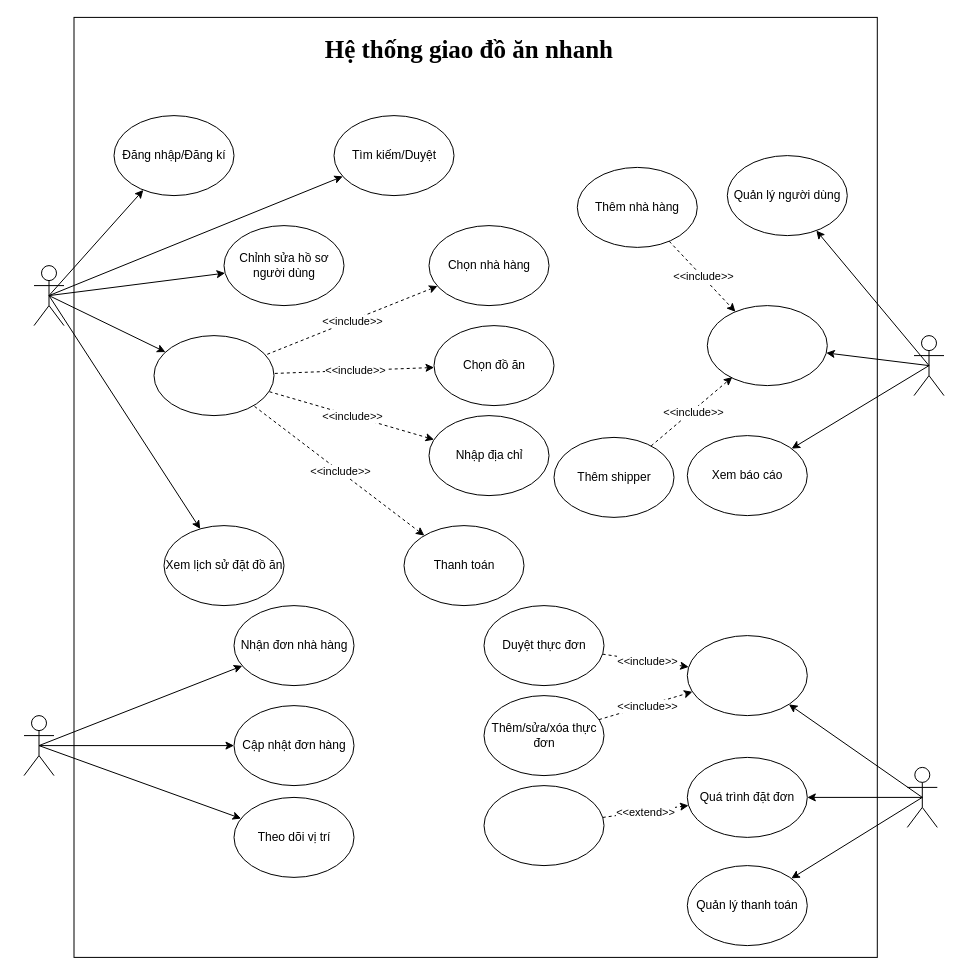
This 980x975 diagram has some shape labels left out. The box of each missing label's shape, as (x1, y1, x2, y2) in pixels:
Khách hàng: (33, 265, 64, 326)
Nhà hàng: (906, 766, 937, 827)
Quản lý nhà hàng/ shipper: (706, 305, 827, 386)
Quản lý thực đơn: (686, 635, 807, 716)
Quản trị viên: (913, 335, 944, 396)
Shipper: (23, 715, 54, 776)
Từ chối đơn hàng: (483, 785, 604, 866)
Đặt đồ ăn: (153, 335, 274, 416)
